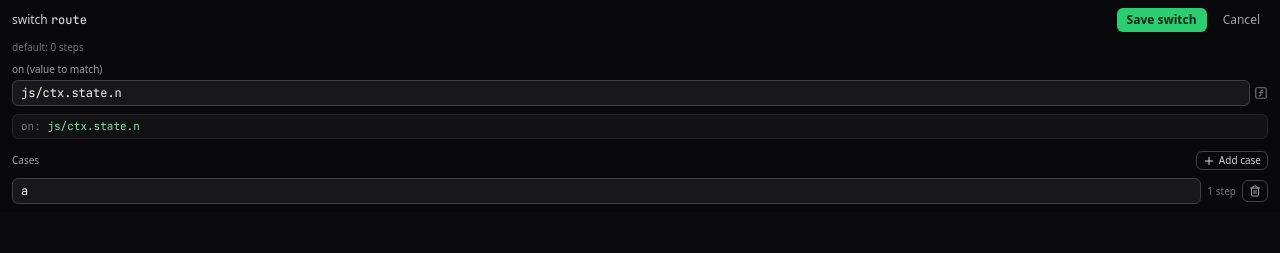
Test: SwitchEditor — add/remove case rows › adding a case appends an empty { when: '', do: [] } row
Step 1. Click the button "Add case" → (1232, 161), box [1196, 151, 1268, 170]
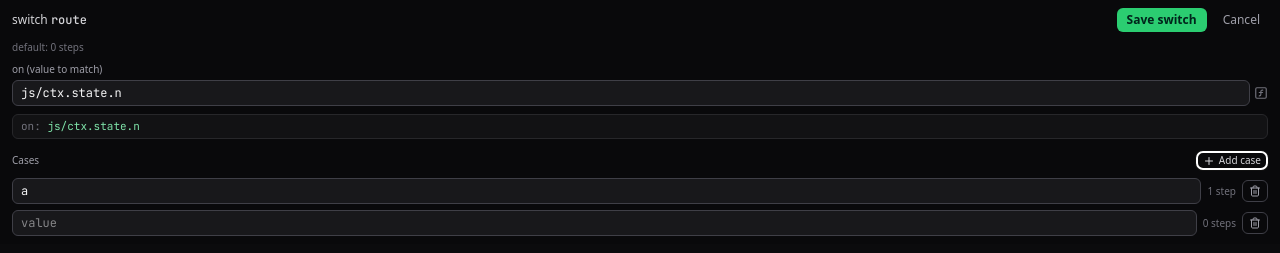
Result: the field named "Case 2 value" is empty at [12, 210, 1197, 236]
Result: the text "0 steps" is shown at [1203, 217, 1236, 230]
